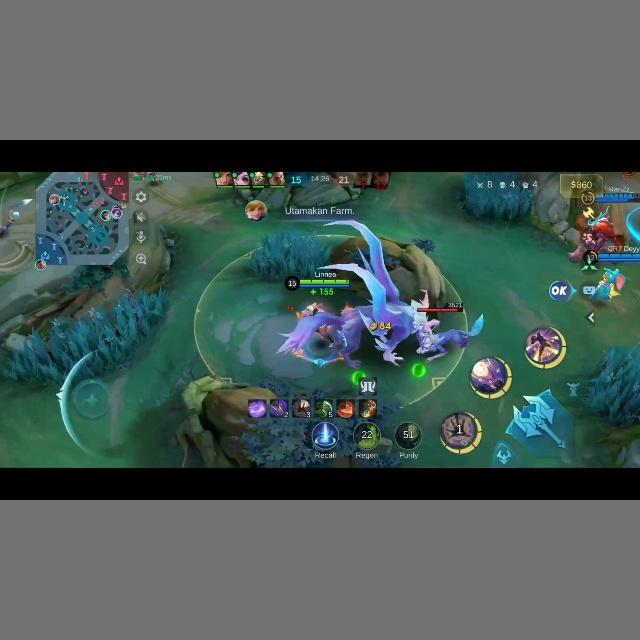blue_baff: (414, 321, 482, 359)
hp_enemy: (411, 306, 461, 315)
hp_self: (281, 276, 351, 290), (591, 248, 640, 262), (589, 191, 640, 202)
minion_enemy: (588, 214, 620, 252)
